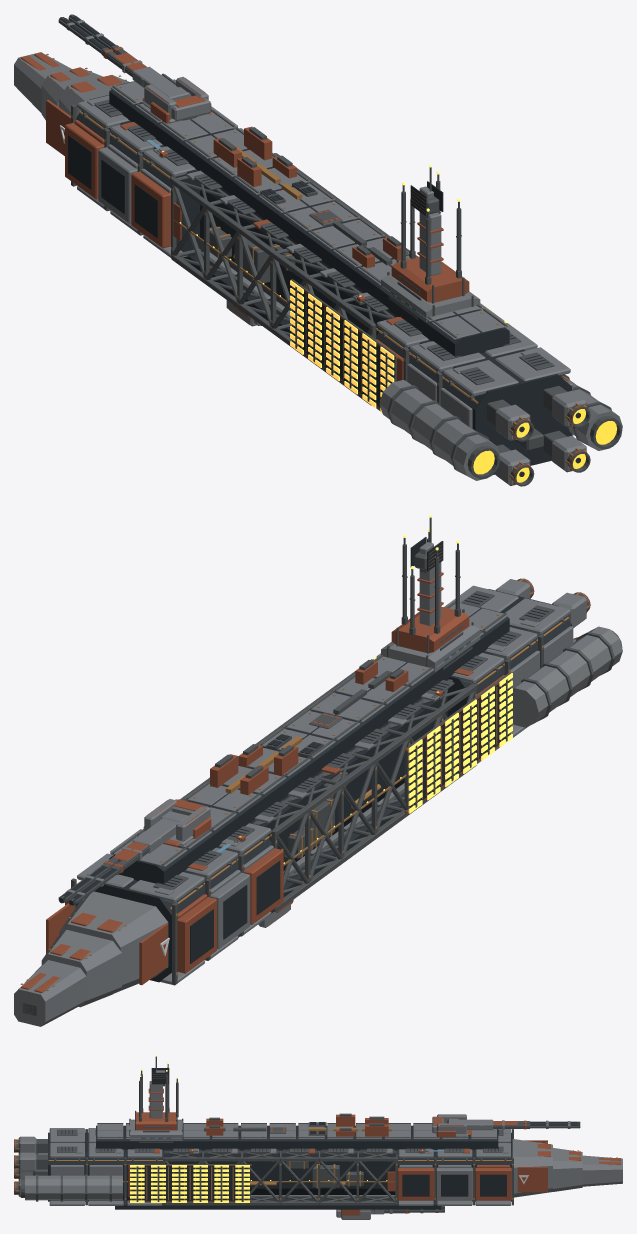
Rendered from mars_battleship.glb.
3 views of the same model, one above another, from view 1: azimuth 30°, elevation 25°; view 2: azimuth 150°, elevation 25°; view 3: azimuth 270°, elevation 25° (orthographic). The views are drawn at different scales.
Parts seen in each view (by area): view 1: FleetHull, mesh_recoil_gun_1, mesh_turret_gun_1; view 2: FleetHull, mesh_recoil_gun_1, mesh_turret_gun_1; view 3: FleetHull, mesh_recoil_gun_1, mesh_turret_gun_1, mesh_turret_gun_3, mesh_recoil_gun_3.
Part boxes in pixels (x1,y1,x2,y2): FleetHull: (14, 52, 622, 486); mesh_recoil_gun_1: (58, 14, 191, 100); mesh_turret_gun_1: (142, 76, 211, 123); FleetHull: (14, 515, 622, 1026); mesh_recoil_gun_1: (58, 811, 188, 905); mesh_turret_gun_1: (144, 799, 211, 846); FleetHull: (14, 1055, 622, 1209); mesh_recoil_gun_1: (447, 1118, 580, 1129); mesh_turret_gun_1: (432, 1114, 471, 1137); mesh_turret_gun_3: (336, 1209, 374, 1219); mesh_recoil_gun_3: (371, 1206, 444, 1214).
Bounding box in the file's own units: 194 × 312 × 1080.
